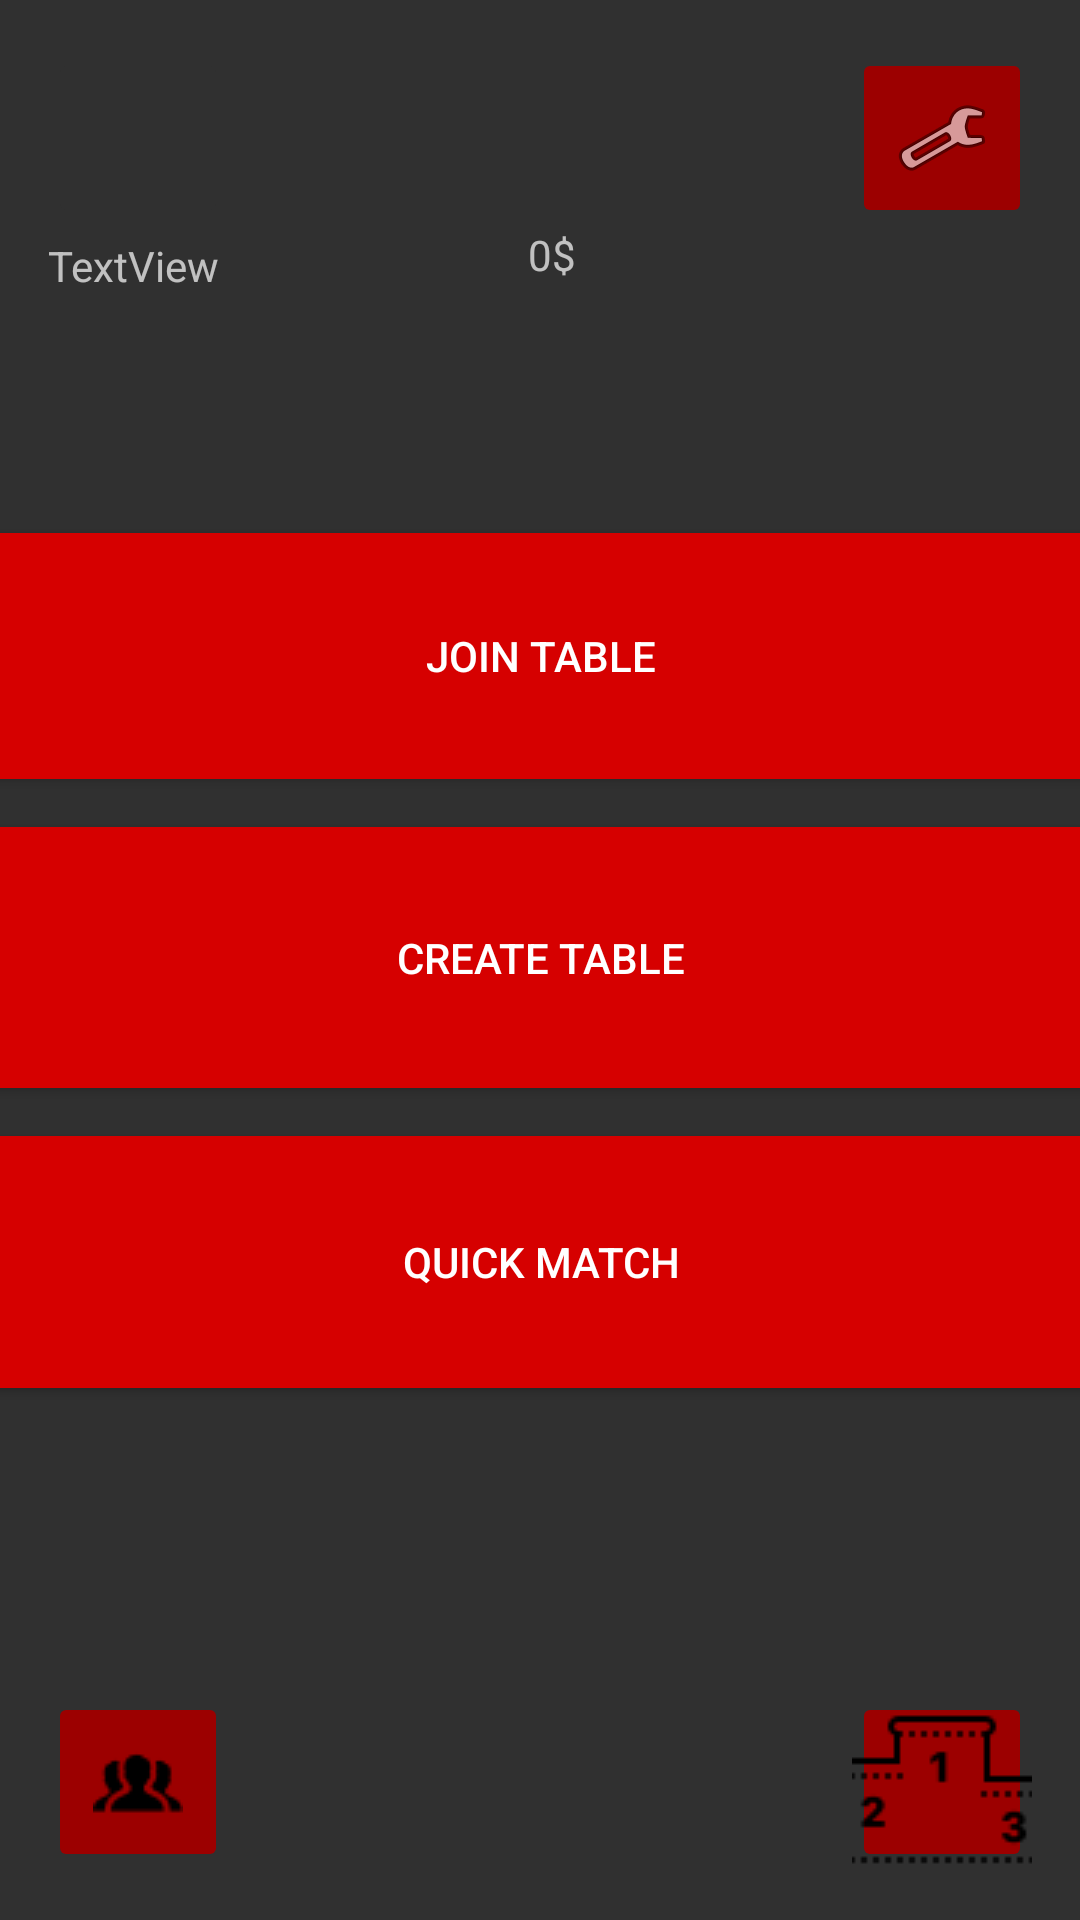

Named icons in this screenshot (1080 x 1920) and their bounding boxes, (x1, y1, x2, y2):
friends: (60, 1710, 216, 1854)
leaderboard: (852, 1710, 1032, 1862)
preferences: (864, 66, 1020, 210)
